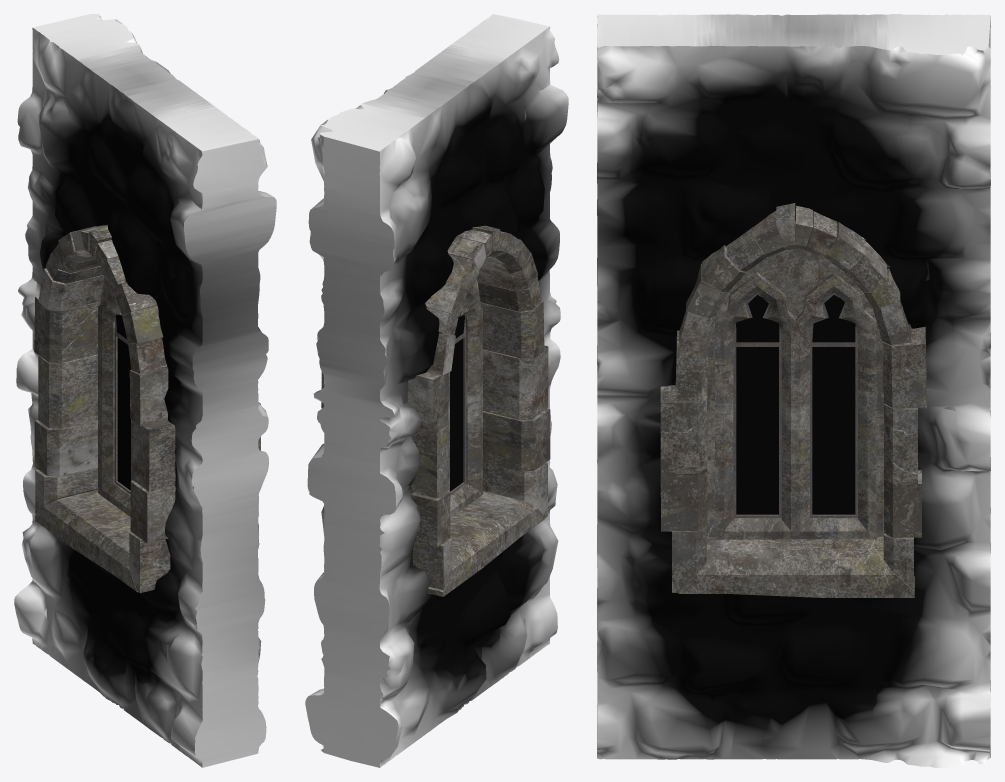
The model's file is SM_CastleTower_Window_A_02.fbx.
The picture shows the model from 3 angles, left to right: view 1: azimuth 30°, elevation 25°; view 2: azimuth 150°, elevation 25°; view 3: azimuth 270°, elevation 25°; orthographic projection. The views are drawn at different scales.
Visible parts, largest first — view 1: SM_CastleTower_Window_A_02_LOD0; view 2: SM_CastleTower_Window_A_02_LOD0; view 3: SM_CastleTower_Window_A_02_LOD0.
Part boxes in pixels (x1,y1,x2,y2): SM_CastleTower_Window_A_02_LOD0: (14,14,276,767); SM_CastleTower_Window_A_02_LOD0: (305,14,568,767); SM_CastleTower_Window_A_02_LOD0: (597,14,990,767).
Bounding box in the file's own units: 80.63 × 200 × 400.
